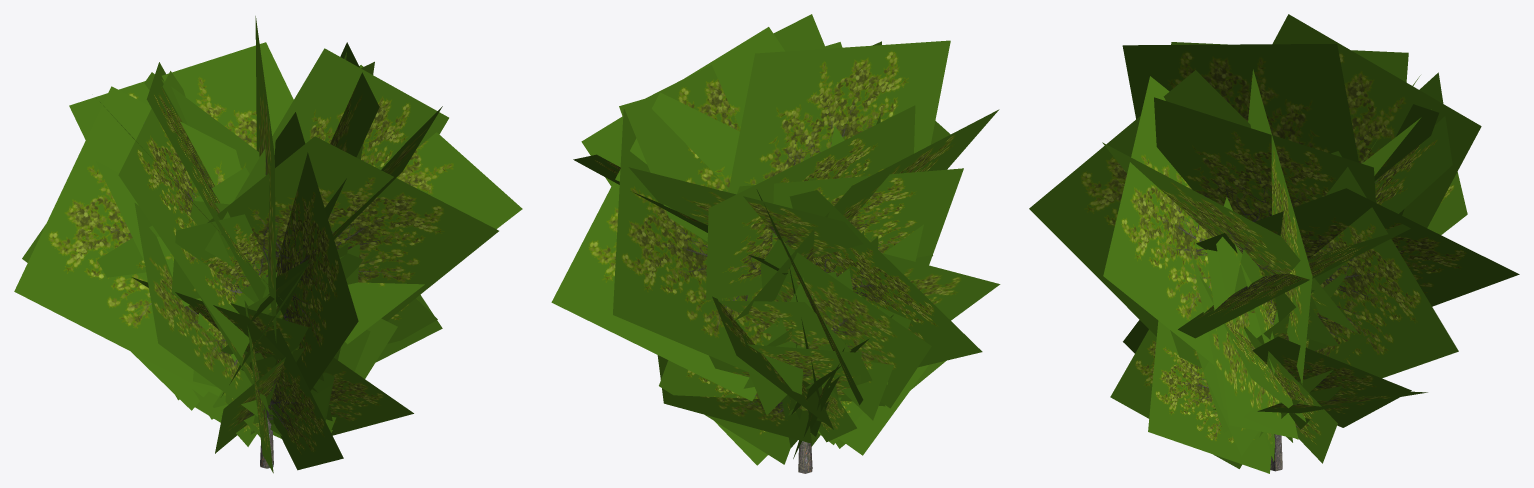
The model's file is bushAlow.obj.
3 views of the same model, side by side, from view 1: azimuth 30°, elevation 25°; view 2: azimuth 150°, elevation 25°; view 3: azimuth 270°, elevation 25° (orthographic). The views are drawn at different scales.
Visible parts, largest first — view 1: Default; view 2: Default; view 3: Default.
Part boxes in pixels (<box>): Default: <box>14,16,522,473</box>; Default: <box>551,14,1000,473</box>; Default: <box>1029,14,1519,473</box>.
Bounding box in the file's own units: 7.46 × 7.05 × 7.23.
2 materials, 2 textured.
